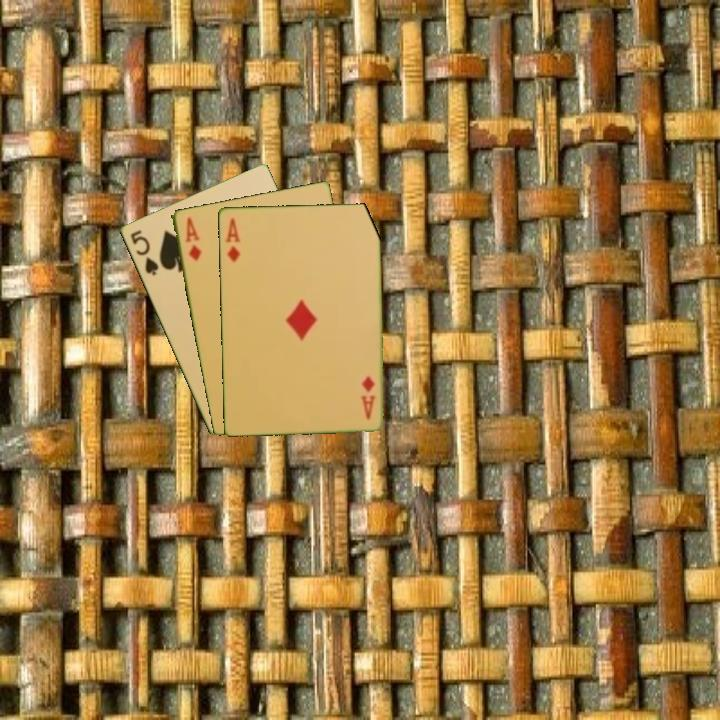5s: (126, 226, 161, 278)
Ad: (181, 213, 204, 263), (222, 214, 243, 264), (358, 372, 377, 422)
